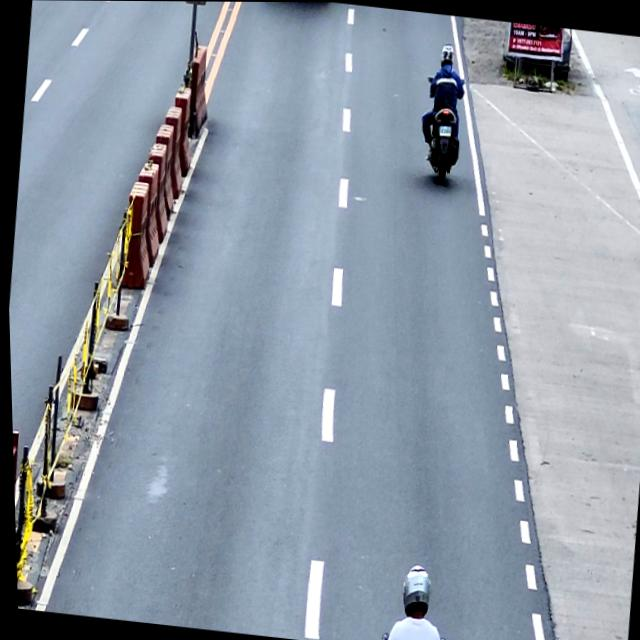License-Plate: (437, 124, 451, 137)
Motorcycle: (416, 72, 468, 187)
